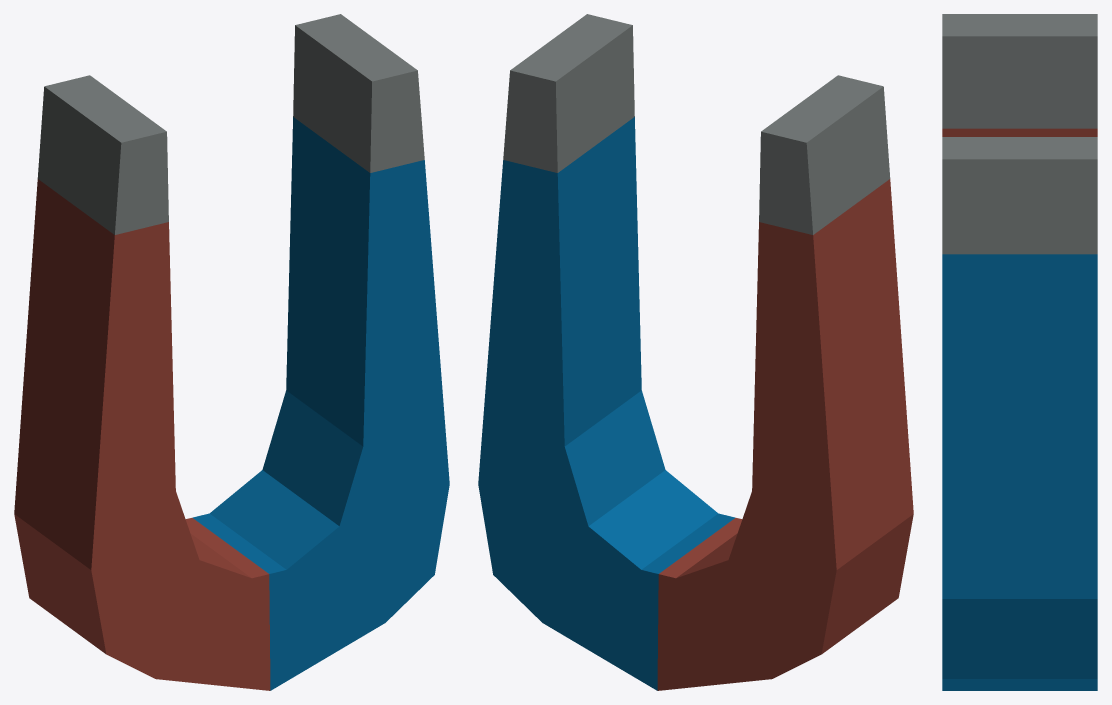
Rendered from SM_Magnet.gltf.
3 views of the same model, side by side, from view 1: azimuth 30°, elevation 25°; view 2: azimuth 150°, elevation 25°; view 3: azimuth 270°, elevation 25° (orthographic).
Parts seen in each view (by area): view 1: SM_Magnet; view 2: SM_Magnet; view 3: SM_Magnet.
Boxes of the visible parts, x1,y1,x2,y2 form: SM_Magnet: (14, 14, 449, 690); SM_Magnet: (478, 14, 913, 690); SM_Magnet: (942, 14, 1097, 690).
Bounding box in the file's own units: 0.1554 × 0.2422 × 0.0579.
Materials: 1 (1 with a texture image).
